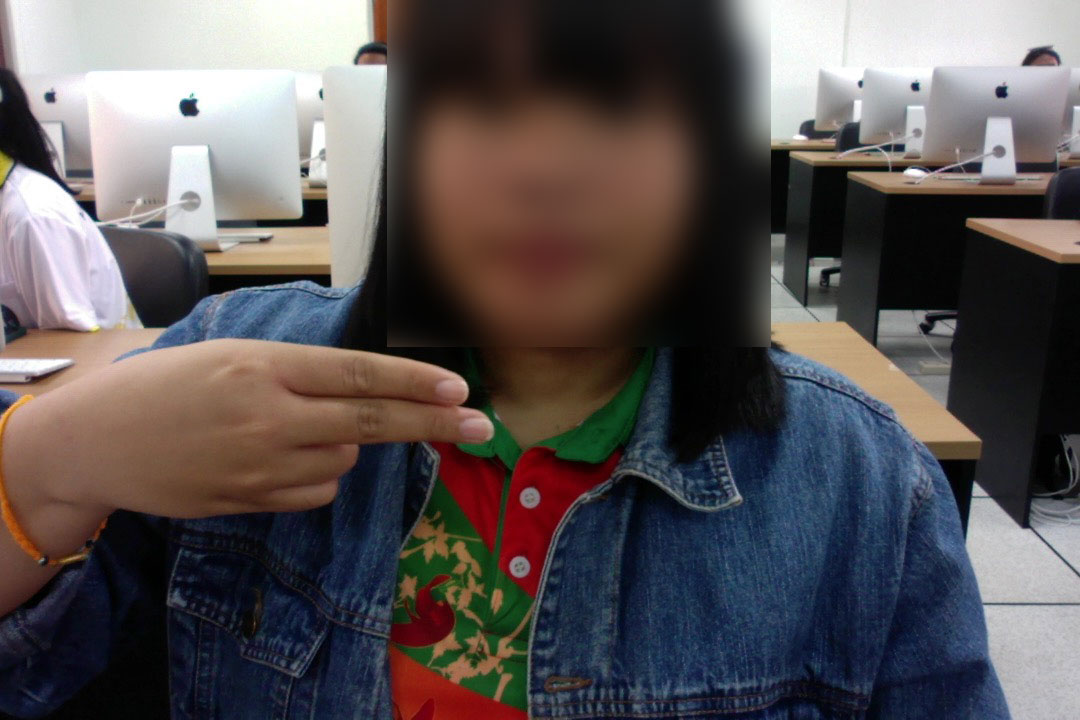hor: (103, 332, 497, 530)
